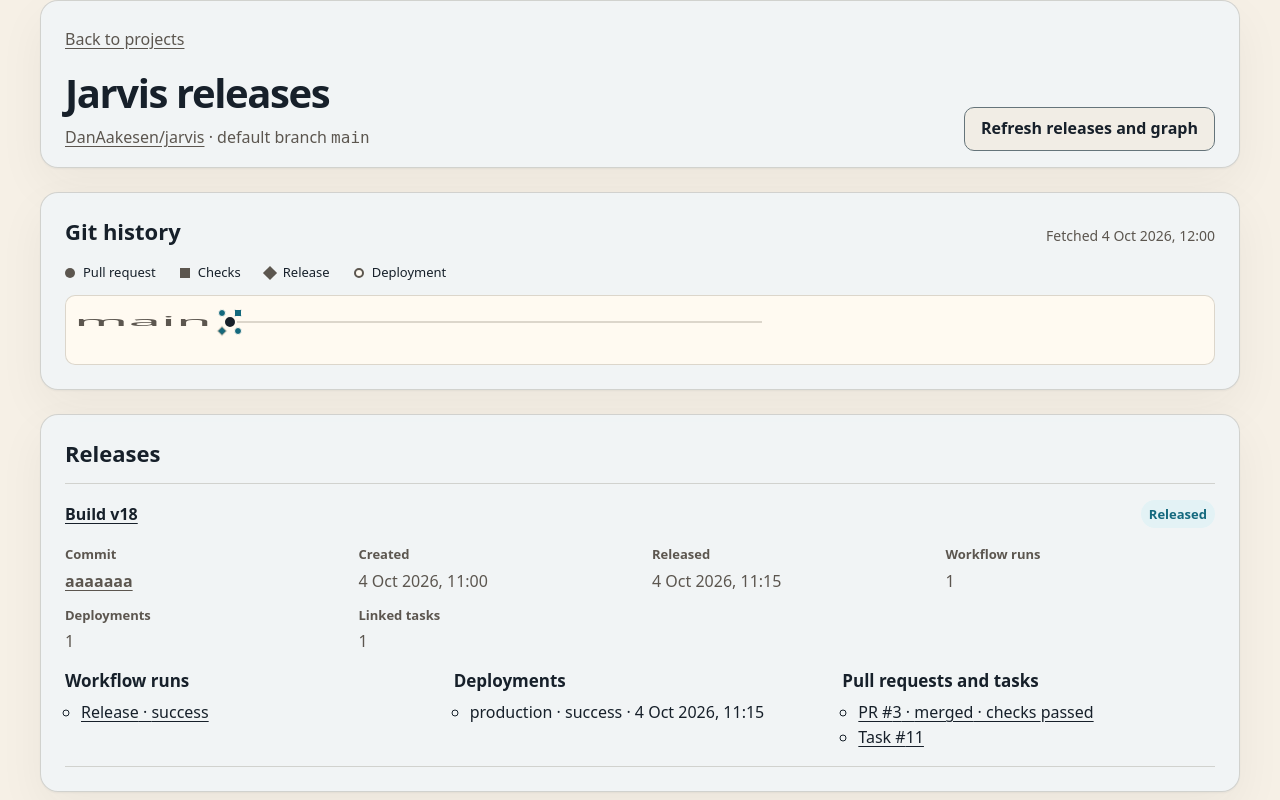
Scenario: project release view › uses one Build label for versions that already start with v
Expected: the element "Build v18" is shown, [65,500,1215,528]
Click the link "Build v18": (101, 514) [65,502,138,527]
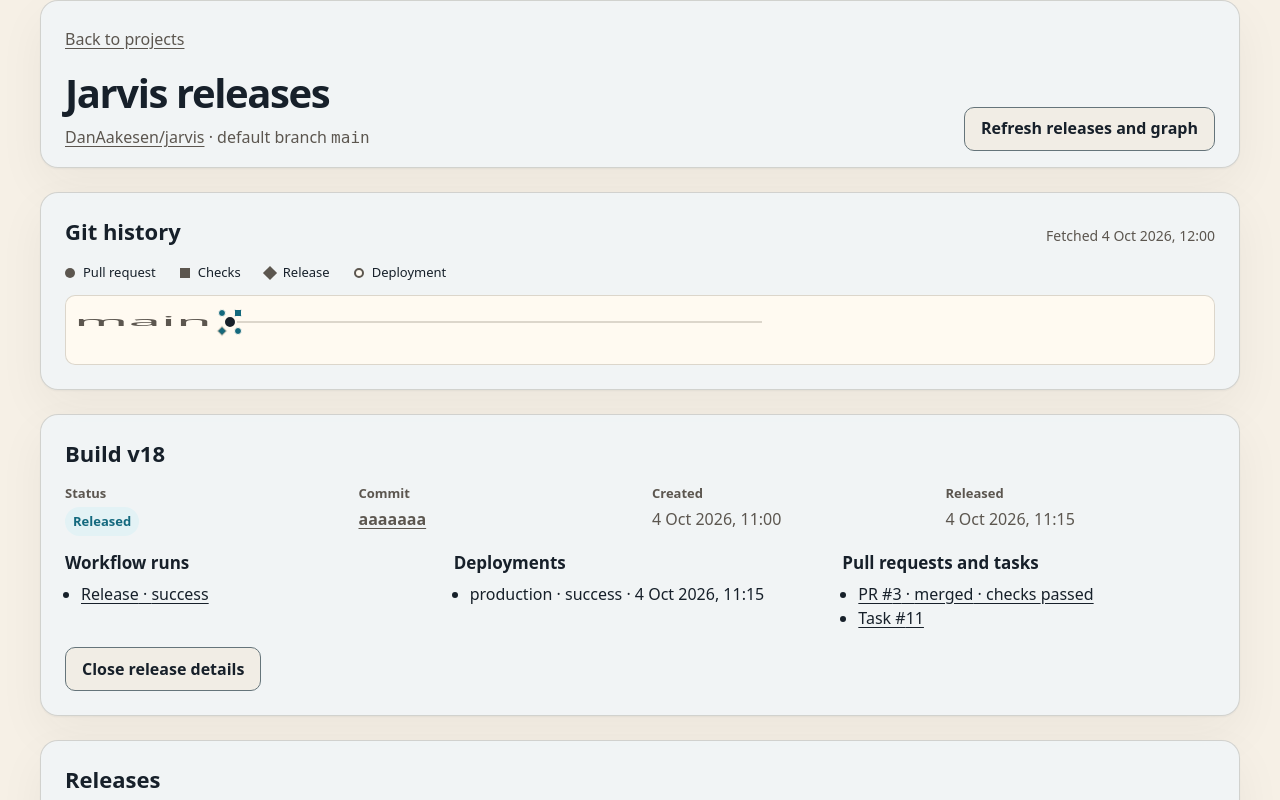
Result: the heading "Build v18" is shown at [65,438,165,468]
